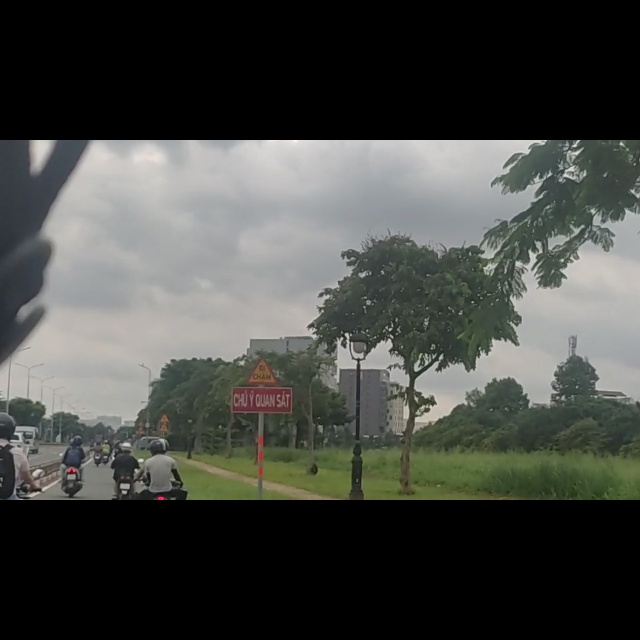bien_cam: (249, 386, 277, 434), (160, 485, 169, 501), (160, 505, 169, 519)
